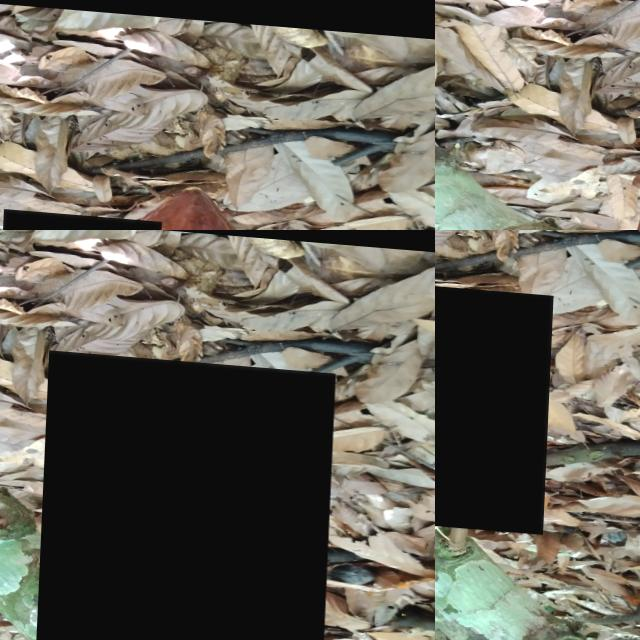Fitoftora: (37, 347, 336, 640), (435, 279, 555, 528)
